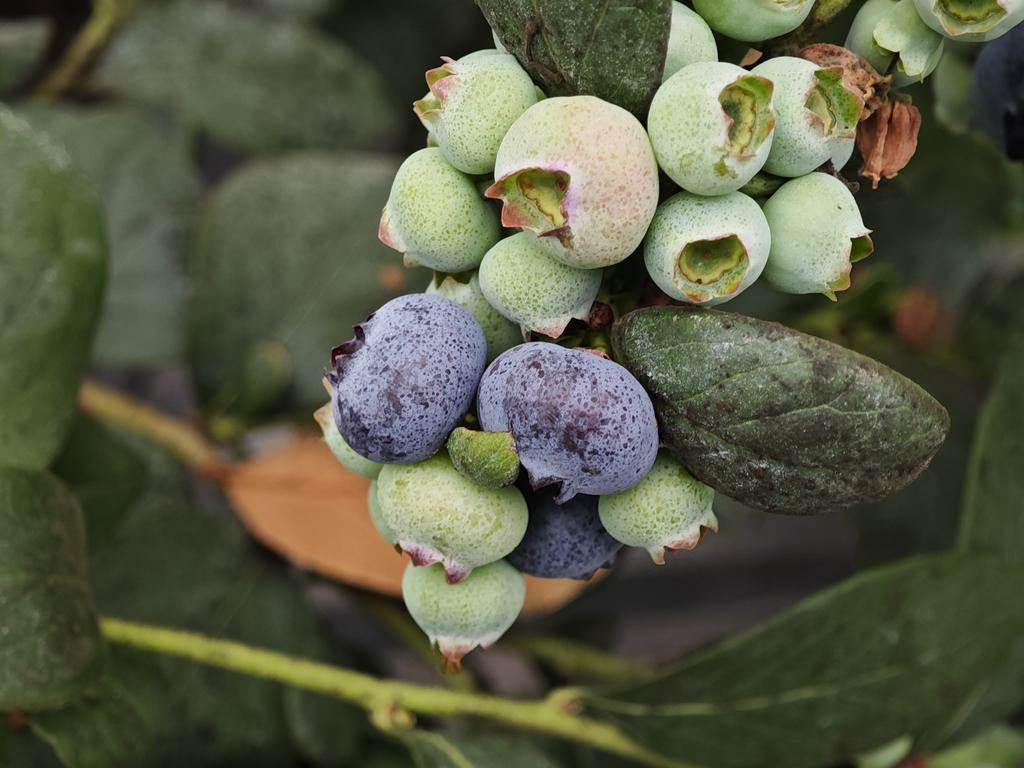RipeBlueBerry: (479, 339, 662, 505), (325, 289, 490, 468)
UnripeBlueBerry: (484, 92, 662, 271)
